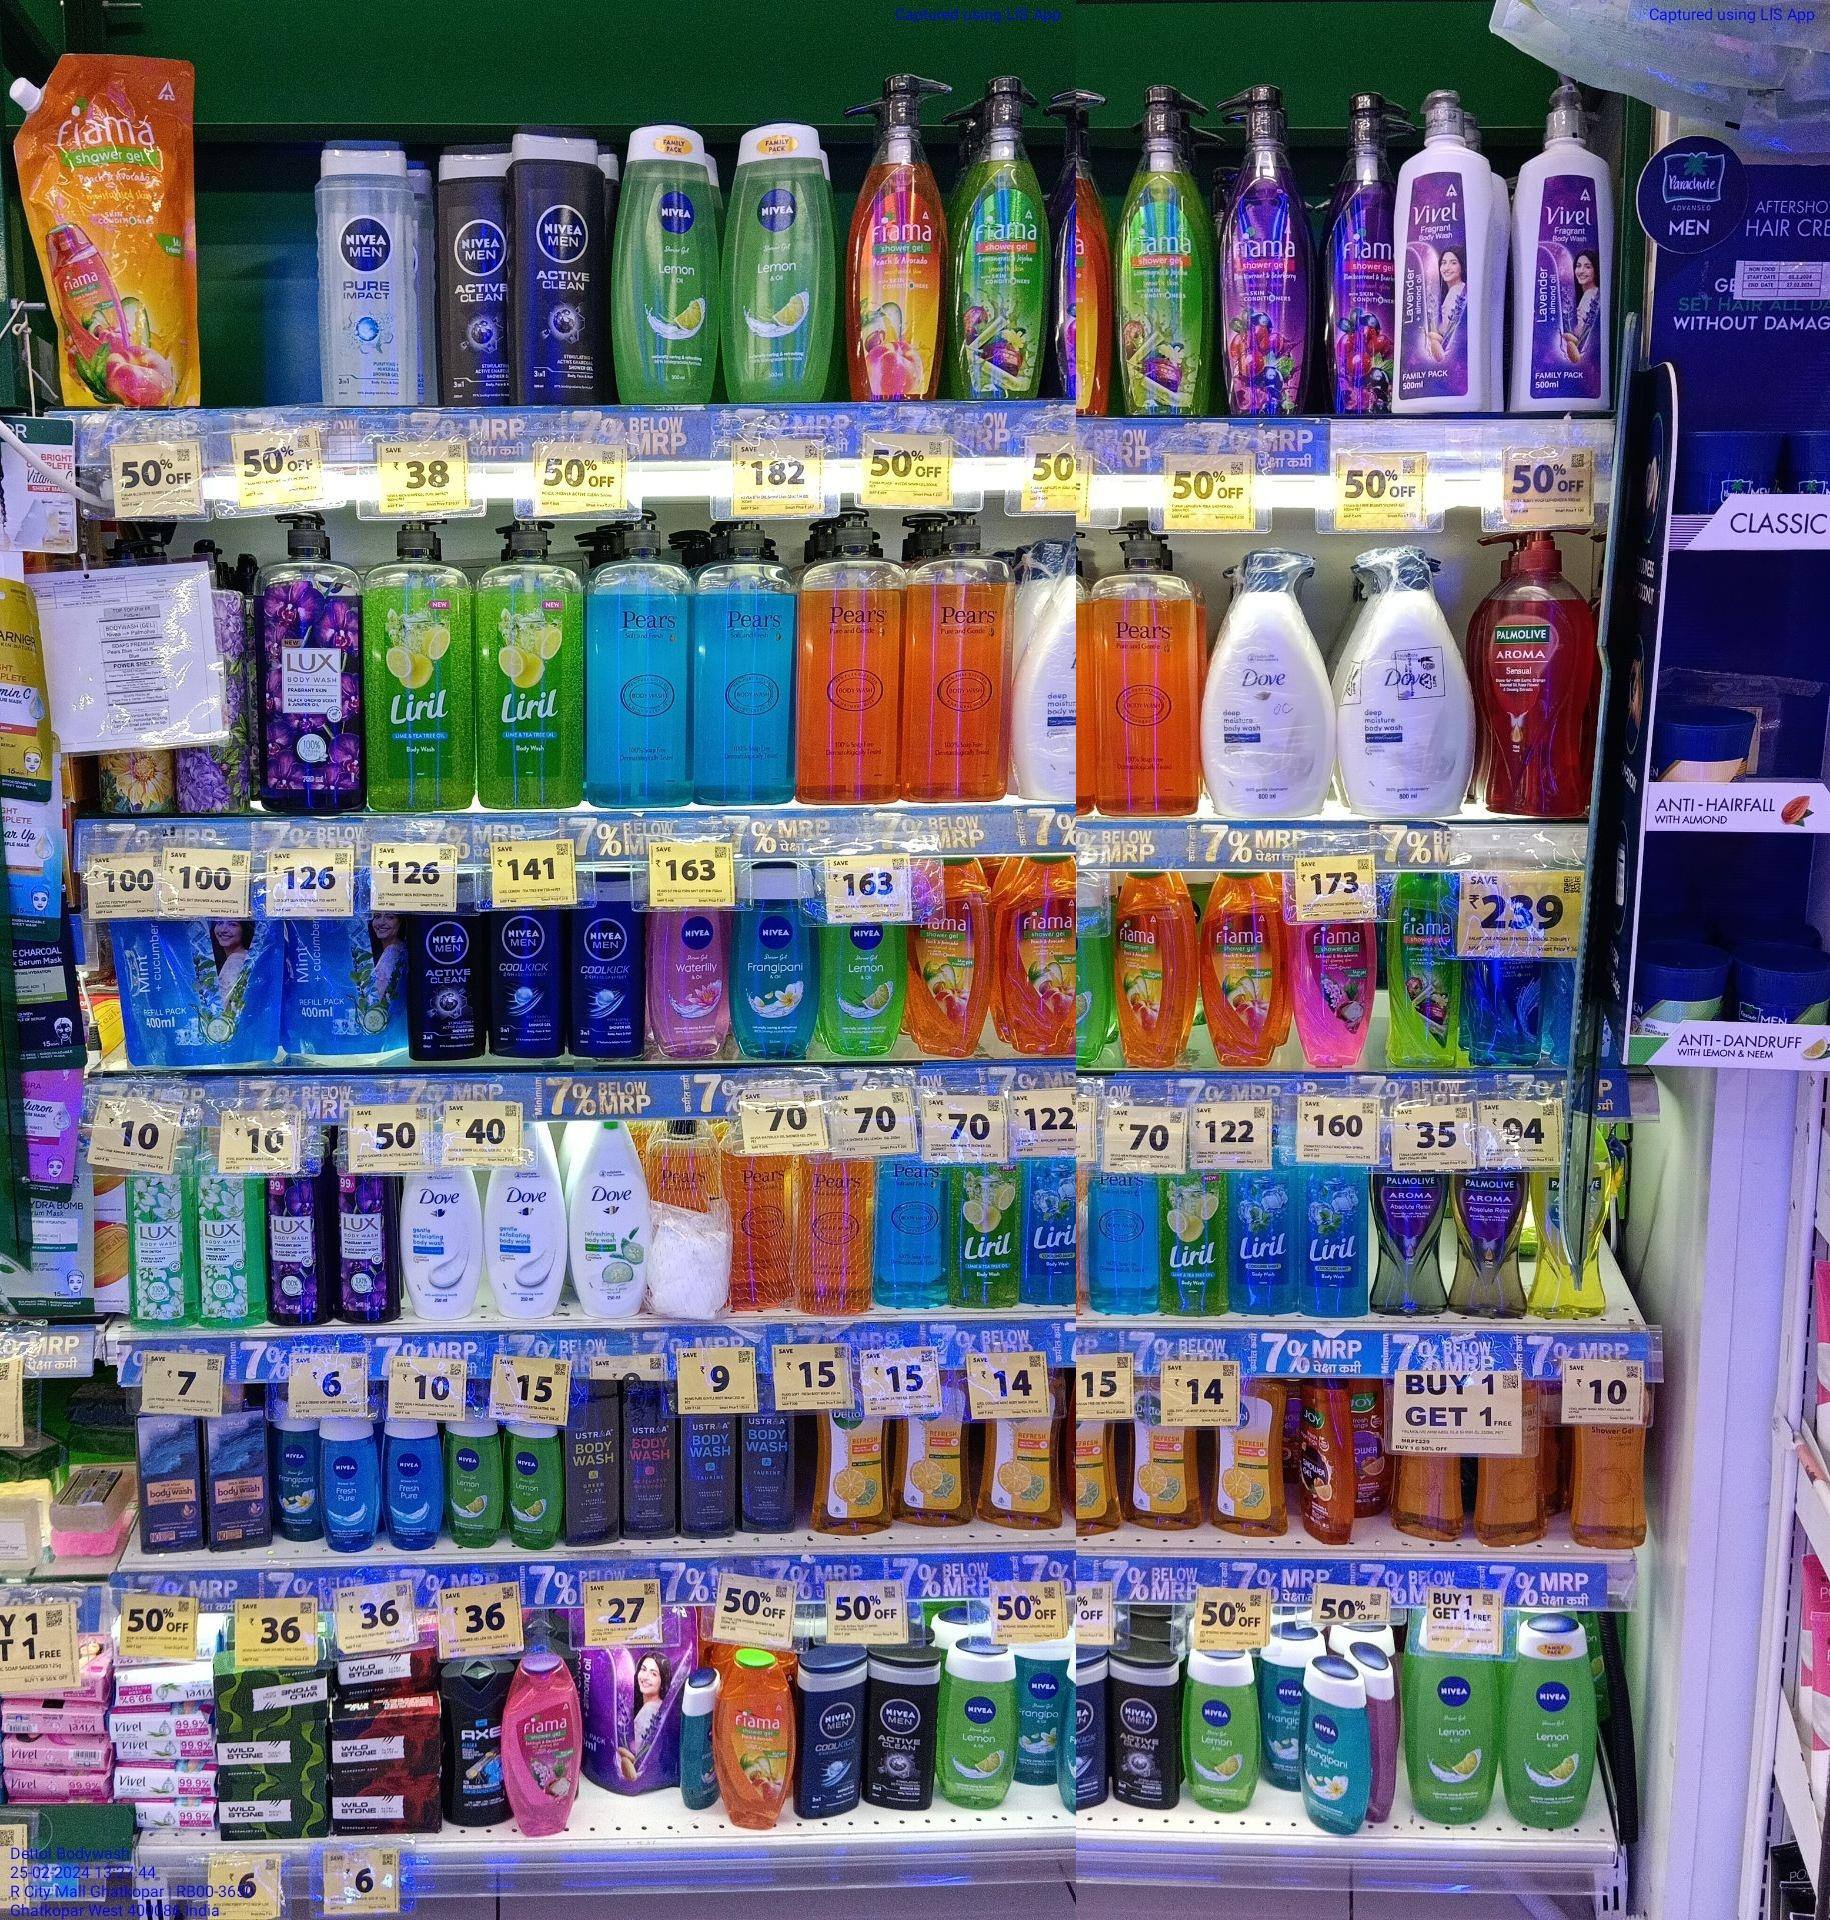Dettol_Bodywash_Refresh: (1213, 1375, 1289, 1536), (1131, 1375, 1205, 1529), (982, 1383, 1059, 1524), (900, 1377, 972, 1521), (824, 1411, 893, 1531)
Dove_Gentle_Exfoliating_Body_Wash_250ML: (485, 1119, 565, 1320), (401, 1171, 478, 1318)
Dove_Refreshing_Body_Wash_250ML: (571, 1121, 644, 1318)
Fiama_Shower_Gel_Patchouli_and_Macadamia_250ML: (500, 1659, 579, 1836)
Fiama_Shower_Gel_Peach_and_Avocado_250ML: (713, 1659, 795, 1829)
Joy_Shower_Gel_Mandarin_and_Lemongrass_250ML: (1297, 1378, 1357, 1545)
Liril_Cooling_Mint_Body_Wash_250ML: (1302, 1167, 1369, 1318), (1234, 1171, 1297, 1313), (1021, 1159, 1078, 1308)
Liril_Lime_and_Tea_Tree_Oil_Body_Wash_250ML: (1160, 1174, 1229, 1317), (953, 1162, 1018, 1308)
Lux_Black_Orchid_Scent_and_Juniper_Oil_Body_Wash_245ML: (264, 1171, 322, 1325), (339, 1174, 398, 1325)
Lux_Body_Wash_Skin_Detox_Freesia_Scent_and_Alove_Vera_245ML: (197, 1157, 255, 1330), (127, 1174, 192, 1329)
Nivea_Shower_Gel_Frangipani_and_Oil_250ML: (1304, 1659, 1372, 1836)
Nivea_Shower_Gel_Lemon_and_Oil_250ML: (733, 122, 836, 406), (615, 123, 715, 403), (1515, 1615, 1594, 1827), (1419, 1656, 1496, 1822), (1184, 1656, 1258, 1812), (946, 1644, 1014, 1809), (507, 1423, 562, 1550), (446, 1423, 497, 1550)
Pears_Pure_Glycerin_and_Mint_Extracts_Body_Wash_250ML: (877, 1157, 951, 1306), (1088, 1167, 1157, 1315)
